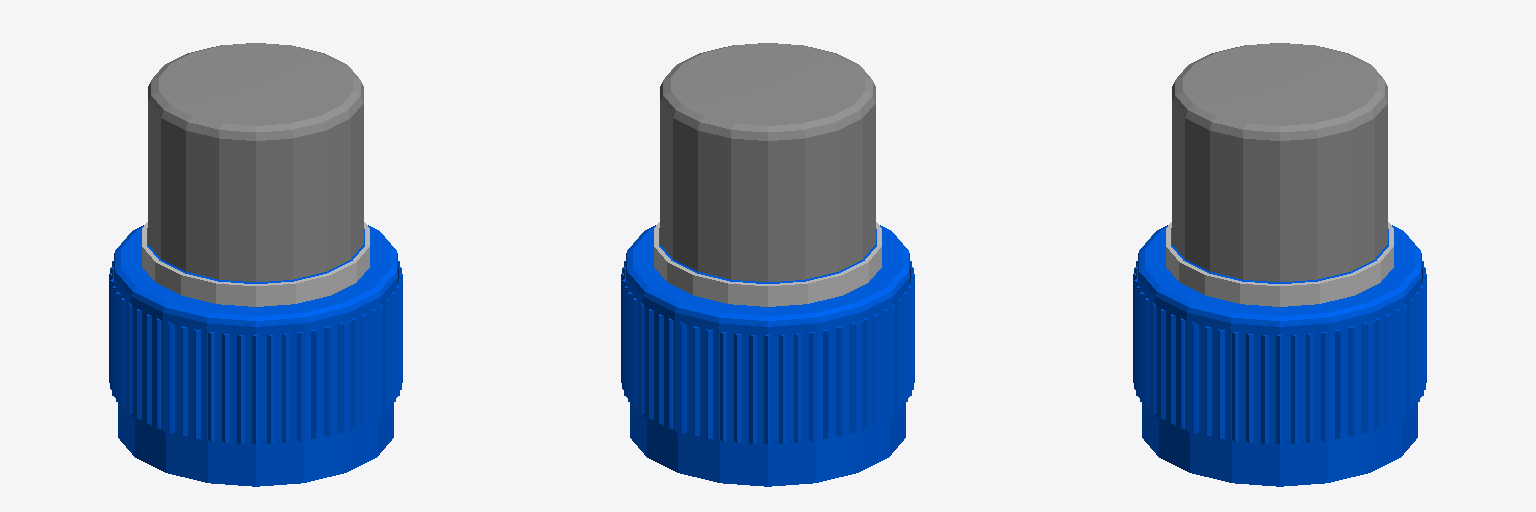
Rendered from mdl_tapon_01.obj.
The picture shows the model from 3 angles: view 1: azimuth 30°, elevation 25°; view 2: azimuth 150°, elevation 25°; view 3: azimuth 270°, elevation 25°; orthographic projection.
Parts seen in each view (by area): view 1: mdl_tapon_azul, mdl_tapon_tapadera_02, mdl_tapon_tapadera_02_seguridad; view 2: mdl_tapon_azul, mdl_tapon_tapadera_02, mdl_tapon_tapadera_02_seguridad; view 3: mdl_tapon_azul, mdl_tapon_tapadera_02, mdl_tapon_tapadera_02_seguridad.
Part boxes in pixels (x1,y1,x2,y2): mdl_tapon_azul: (109, 225, 402, 486); mdl_tapon_tapadera_02: (148, 43, 363, 281); mdl_tapon_tapadera_02_seguridad: (142, 222, 369, 306); mdl_tapon_azul: (621, 225, 914, 486); mdl_tapon_tapadera_02: (660, 43, 875, 281); mdl_tapon_tapadera_02_seguridad: (654, 222, 881, 306); mdl_tapon_azul: (1133, 225, 1426, 486); mdl_tapon_tapadera_02: (1172, 43, 1387, 281); mdl_tapon_tapadera_02_seguridad: (1166, 222, 1393, 306).
Size of the model in its own units: 3.15 by 4.06 by 3.15.